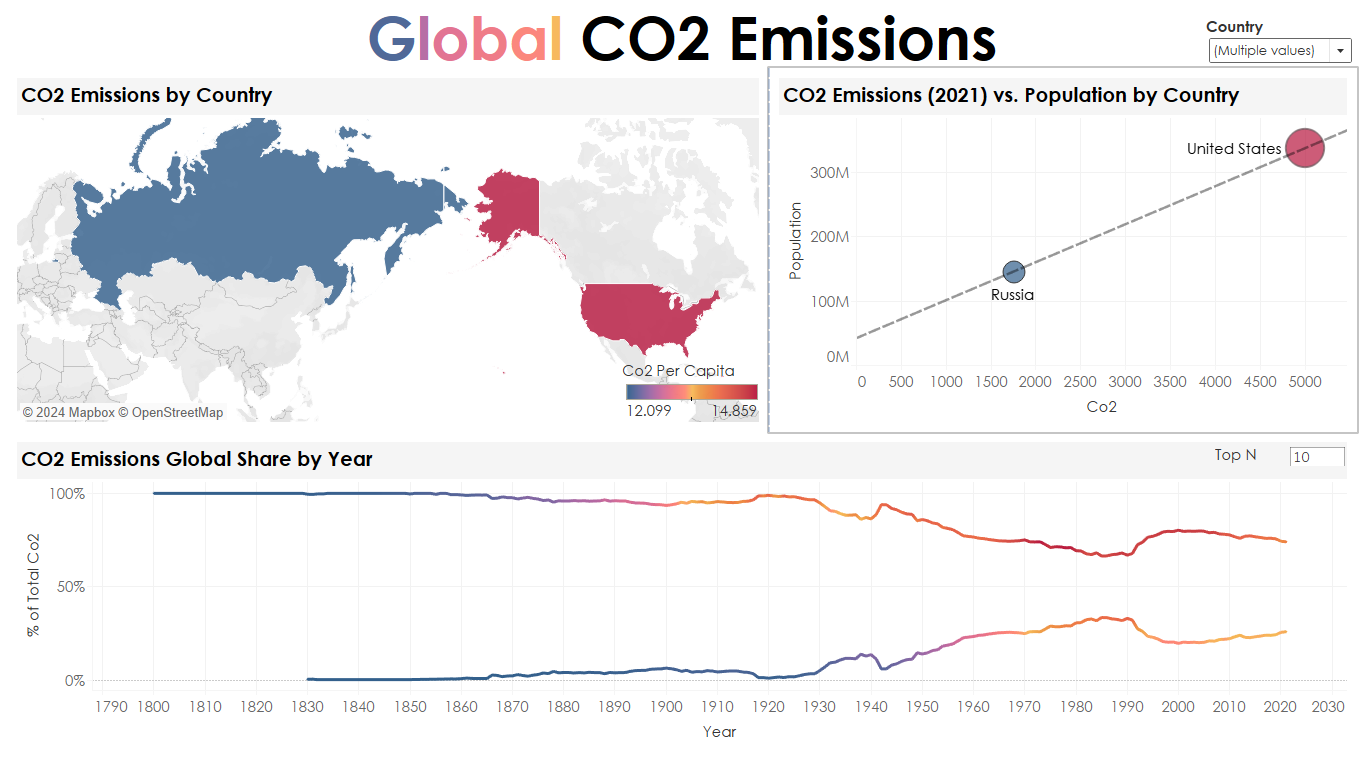

Layout of this report page (visuals, bound fields, positions):
{"tool":"tableau","page":{"name":"Global CO2 Emissions","canvas":[1366,768],"ordinal":0},"visuals":[{"type":"text","box":[8,8,1350,63.2]},{"type":"filter","title":"Map","param":"[federated.0qpziib1qk9rpu12heb5i0mj1wvz].[none:Country (copy)_124721568004842700","box":[1207,20,149,48]},{"type":"worksheet","title":"Map","mark":"Automatic","box":[8,71.2,762,363.8]},{"type":"worksheet","title":"Scatter Plot","mark":"Circle","rows":["population"],"cols":["co2"],"box":[770,71.2,588,363.8]},{"type":"legend","title":"Map","param":"[federated.0qpziib1qk9rpu12heb5i0mj1wvz].[sum:co2_per_capita:qk]","box":[623,364,140,64]},{"type":"worksheet","title":"Line Chart","mark":"Automatic","cols":["year"],"box":[8,435,1350,325]},{"type":"parameter","param":"[Parameters].[Parameter 1]","box":[1216,447,133,22]}]}

Visuals, with their boxes in screenshot pixels (x1, y1, x2, y2), scaled from the page's 1366x768 canvas onto the 1365x757 screenshot:
text: (left=8, top=8, right=1357, bottom=70)
"Map" filter: (left=1206, top=20, right=1355, bottom=67)
"Map" worksheet: (left=8, top=70, right=769, bottom=429)
"Scatter Plot" worksheet (Circle marks): (left=769, top=70, right=1357, bottom=429)
"Map" legend: (left=623, top=359, right=762, bottom=422)
"Line Chart" worksheet: (left=8, top=429, right=1357, bottom=749)
parameter: (left=1215, top=441, right=1348, bottom=462)
